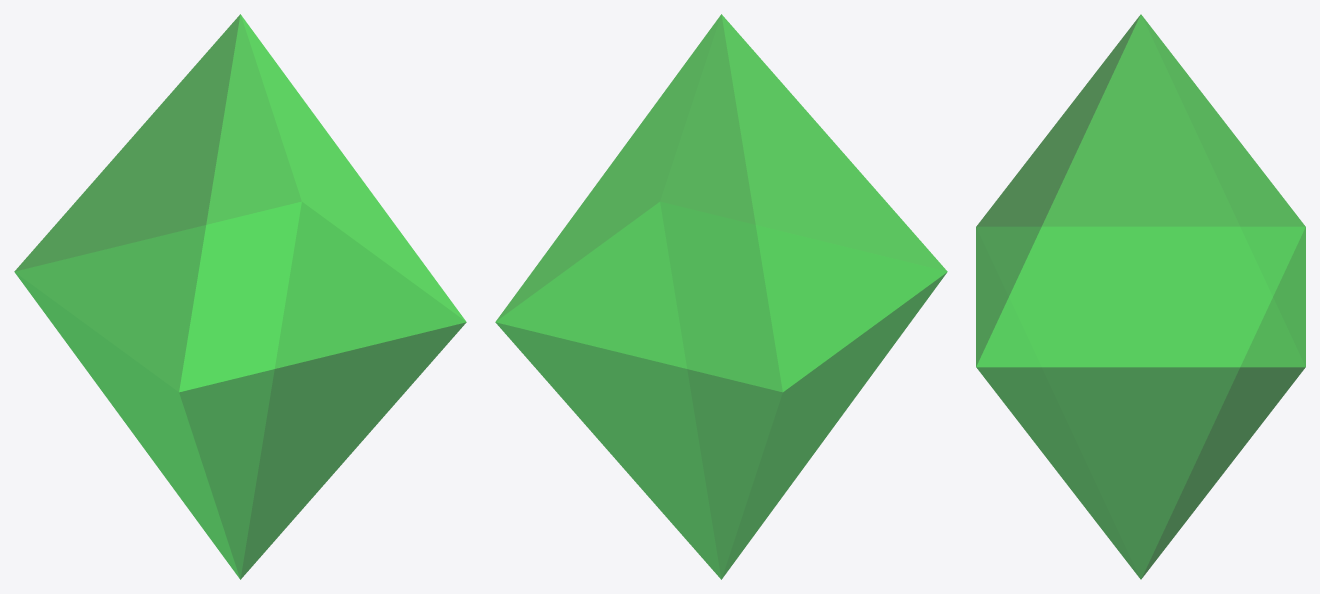
The model's file is NATAF_Green_unity.fbx.
3 renders of one model, left to right at view 1: azimuth 30°, elevation 25°; view 2: azimuth 150°, elevation 25°; view 3: azimuth 270°, elevation 25°, orthographic.
Parts seen in each view (by area): view 1: NATAF_Green_Unity; view 2: NATAF_Green_Unity; view 3: NATAF_Green_Unity.
Part boxes in pixels (bbox=[...]): NATAF_Green_Unity: bbox=[14, 14, 466, 579]; NATAF_Green_Unity: bbox=[495, 14, 947, 579]; NATAF_Green_Unity: bbox=[976, 14, 1305, 579].
Size of the model in its own units: 1.92 by 3.6 by 1.9.
